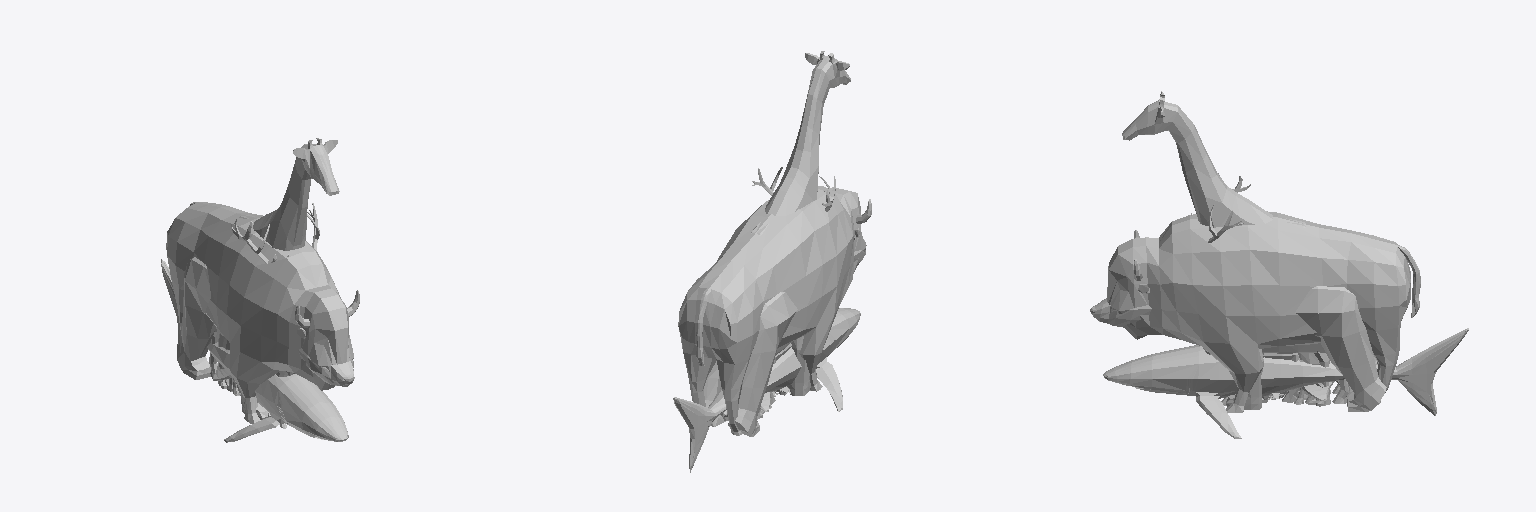
The model's file is AllAnimals.obj.
3 renders of one model, left to right at view 1: azimuth 30°, elevation 25°; view 2: azimuth 150°, elevation 25°; view 3: azimuth 270°, elevation 25°, orthographic.
Visible parts, largest first — view 1: 04bizonFinal_Plane.171, 07sharkFinal_Plane.177, 08bearFinal_Plane.179, 18girafFinal_Plane.185, 09deerFinal_Plane.188; view 2: 04bizonFinal_Plane.171, 18girafFinal_Plane.185, 08bearFinal_Plane.179, 07sharkFinal_Plane.177; view 3: 04bizonFinal_Plane.171, 07sharkFinal_Plane.177, 08bearFinal_Plane.179, 18girafFinal_Plane.185, 09deerFinal_Plane.188, 13cowFinal_Plane.192.
Boxes of the visible parts, box(x1,y1,x2,y2) form: 04bizonFinal_Plane.171: box(166, 202, 359, 423); 07sharkFinal_Plane.177: box(161, 259, 348, 442); 08bearFinal_Plane.179: box(177, 257, 354, 419); 18girafFinal_Plane.185: box(238, 138, 339, 395); 09deerFinal_Plane.188: box(210, 203, 319, 377); 04bizonFinal_Plane.171: box(678, 186, 871, 435); 18girafFinal_Plane.185: box(751, 51, 850, 404); 08bearFinal_Plane.179: box(704, 235, 866, 436); 07sharkFinal_Plane.177: box(673, 308, 860, 472); 04bizonFinal_Plane.171: box(1107, 211, 1420, 412); 07sharkFinal_Plane.177: box(1103, 328, 1468, 438); 08bearFinal_Plane.179: box(1090, 286, 1386, 411); 18girafFinal_Plane.185: box(1122, 91, 1305, 402); 09deerFinal_Plane.188: box(1191, 173, 1348, 403); 13cowFinal_Plane.192: box(1221, 343, 1352, 405).
Size of the model in its own units: 1.43 by 4.2 by 4.5.